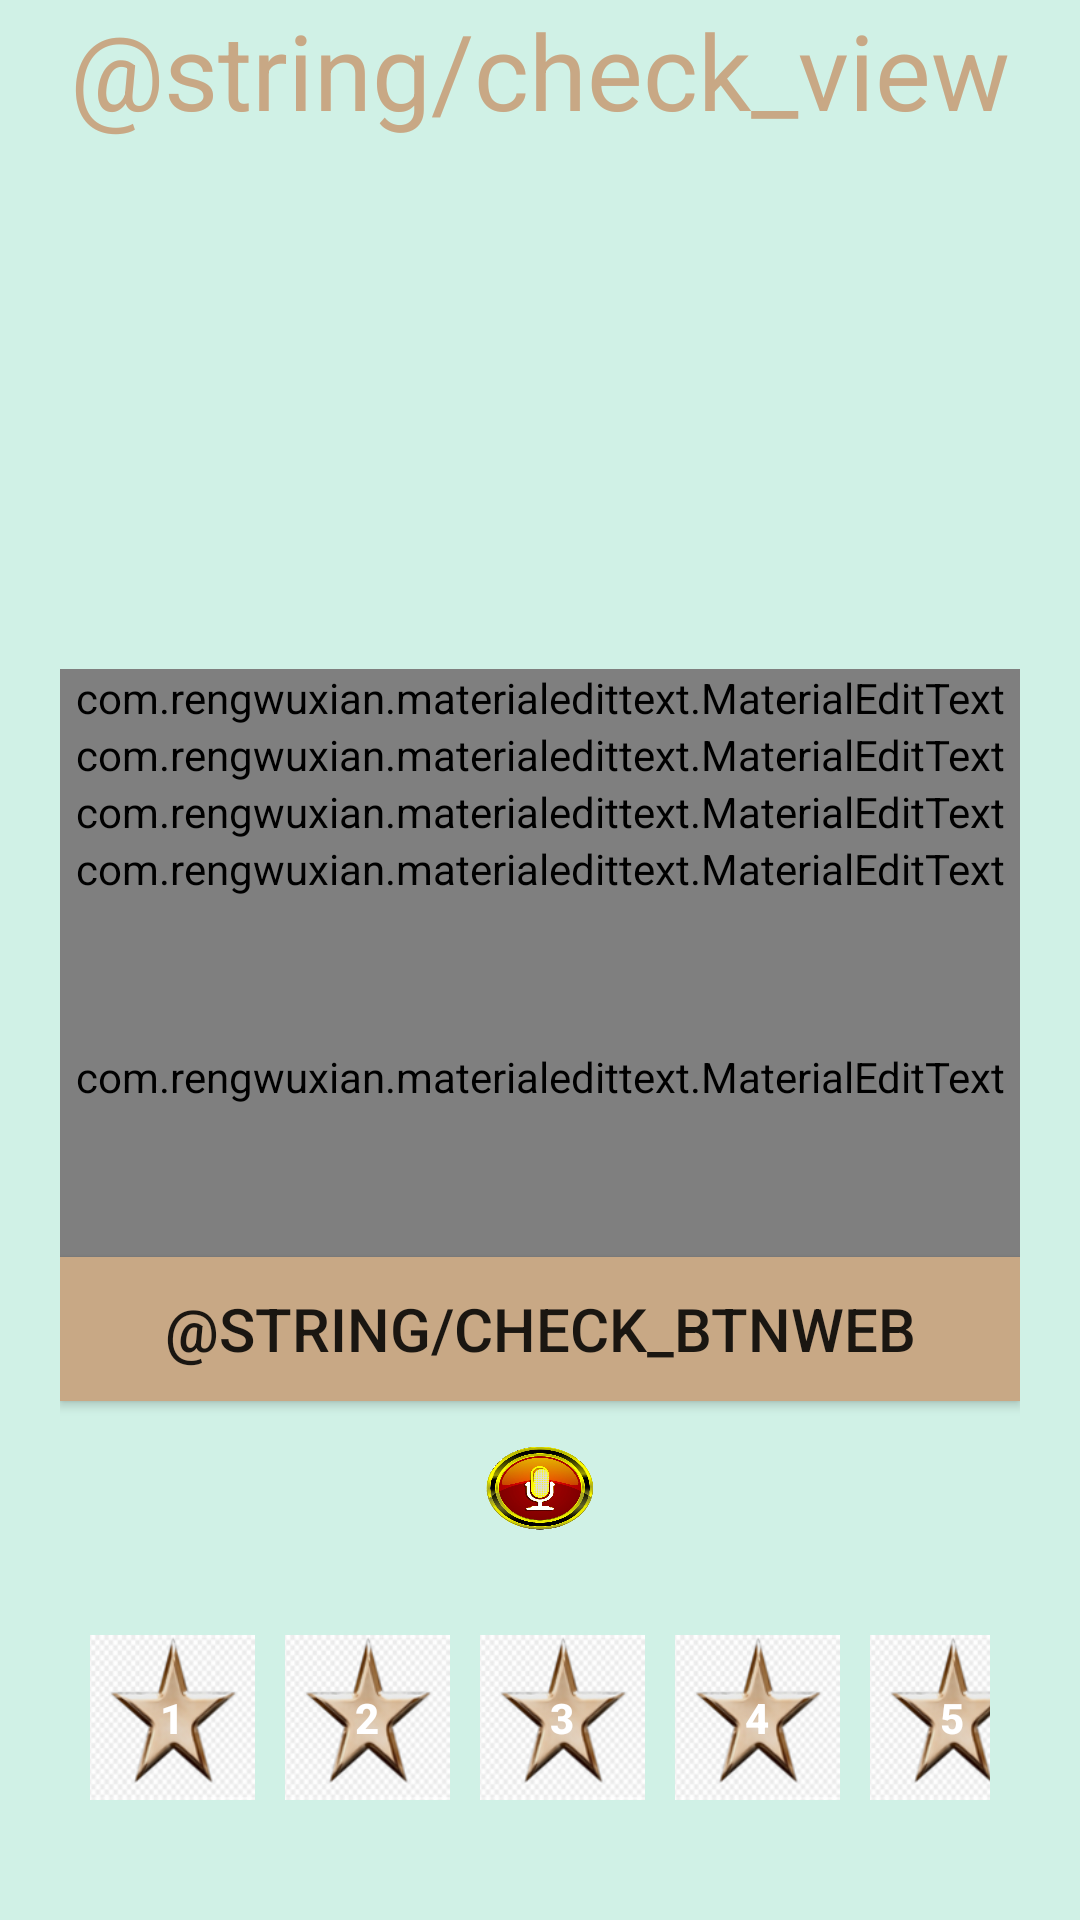

Where icons sit on this 1080px×1920px app screen, as (x1, y1, x2, y2):
talk: (486, 1447, 593, 1530)
